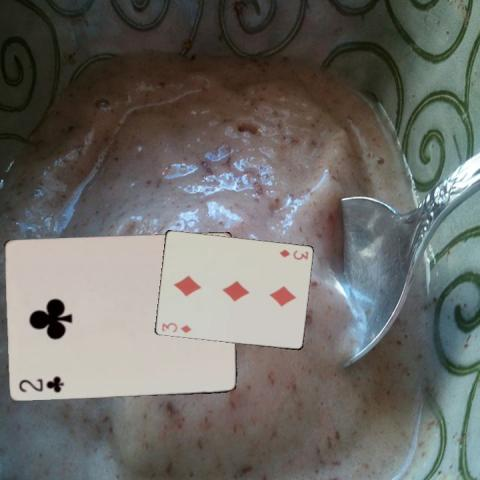2c: (15, 374, 65, 395)
3d: (159, 320, 192, 335), (276, 247, 309, 261)
